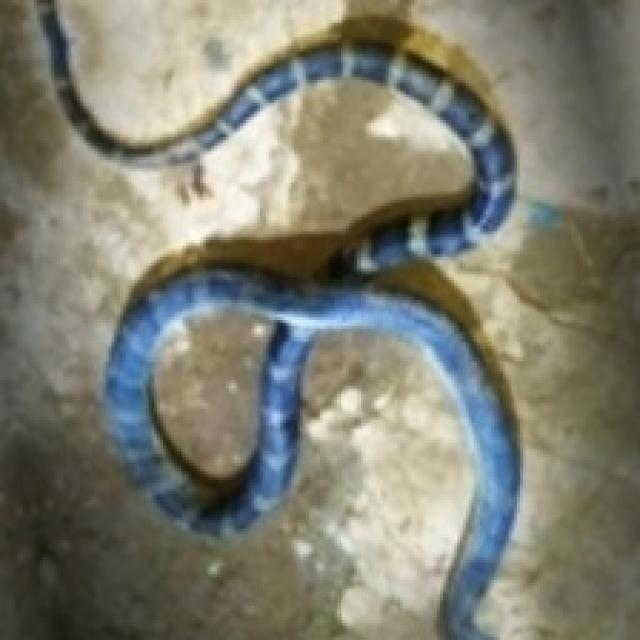king cobra: (37, 0, 517, 637)
